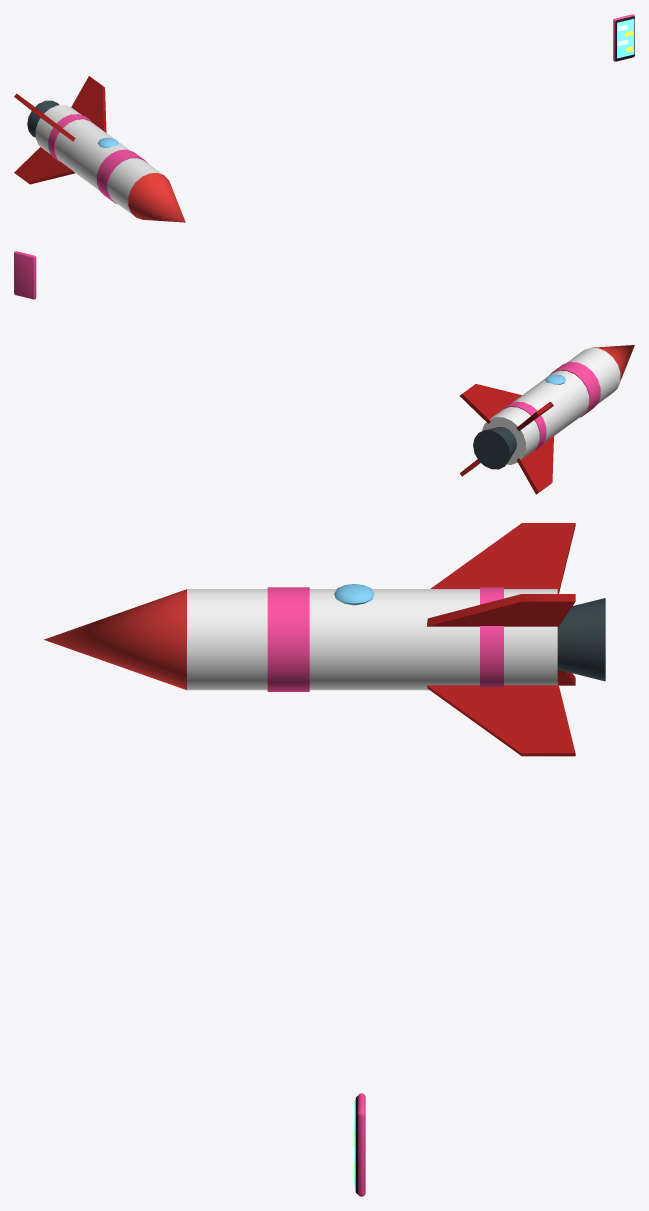
File: garage_props.glb
3 renders of one model, top to bottom at view 1: azimuth 30°, elevation 25°; view 2: azimuth 150°, elevation 25°; view 3: azimuth 270°, elevation 25°, orthographic. The views are drawn at different scales.
Visible parts, largest first — view 1: Missile, Phone; view 2: Missile, Phone; view 3: Missile, Phone.
Part boxes in pixels (box(x1,y1,x2,y2)): Missile: box(14, 76, 185, 222); Phone: box(613, 14, 634, 61); Missile: box(460, 345, 634, 494); Phone: box(14, 251, 36, 299); Missile: box(44, 523, 605, 756); Phone: box(353, 1093, 365, 1196).
Size of the model in its own units: 2.19 by 0.2998 by 0.94.
